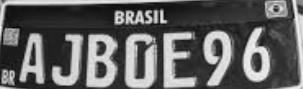placa_antiga: (0, 0, 302, 88)
